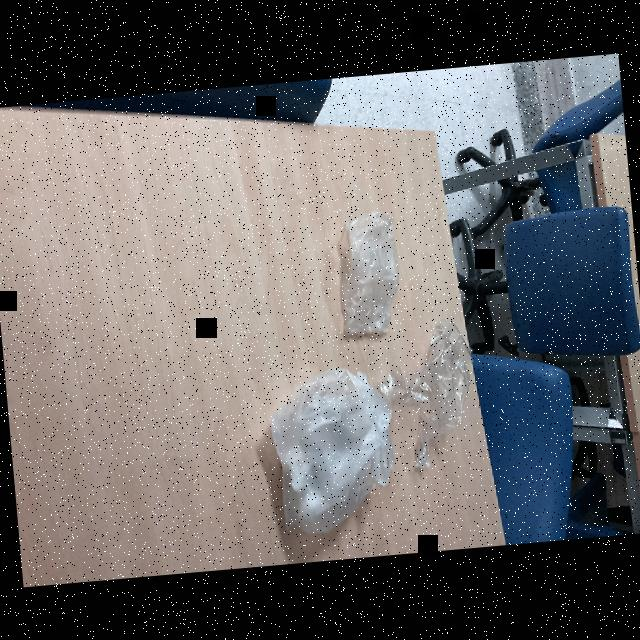plastic_bag: (256, 364, 401, 540), (382, 319, 494, 477), (327, 203, 408, 340)
